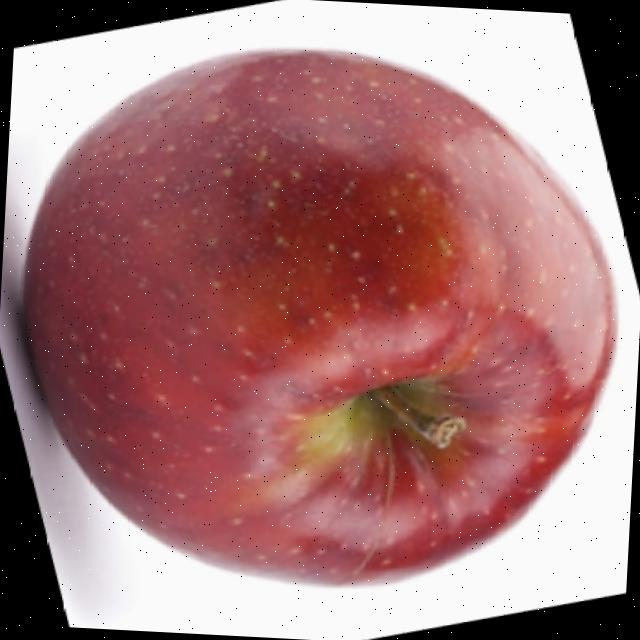Ripe: (5, 25, 637, 606)
